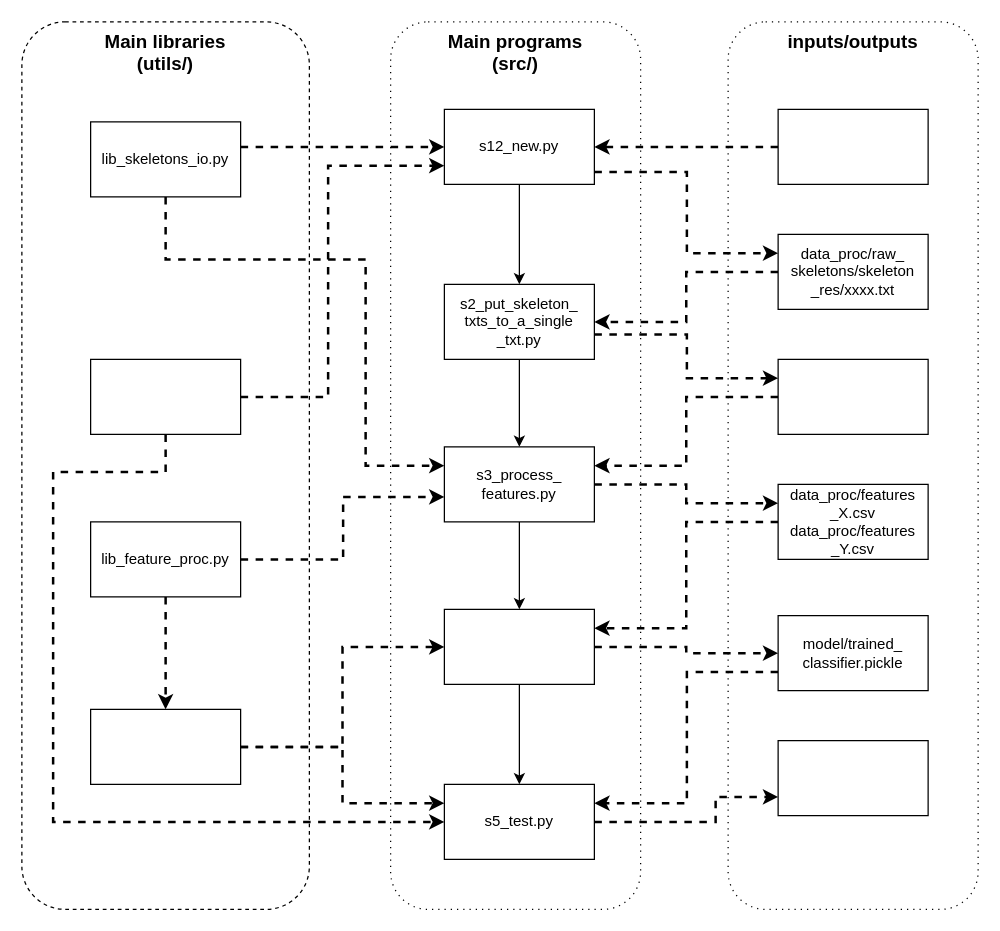
This 1000x931 diagram has some shape labels left out. The shapes that lost their labels are listed below. From the top down, each one's centre as x and y in pixels, then its label:
the point at 852,146: training images
the point at 165,396: main.py (LiftingFromTheDeep)
the point at 852,396: data_proc/raw_ skeletons/skeletons_ info.txt
the point at 518,646: s4_train.py
the point at 165,746: lib_classifier.py
the point at 852,777: output/video.mp4
